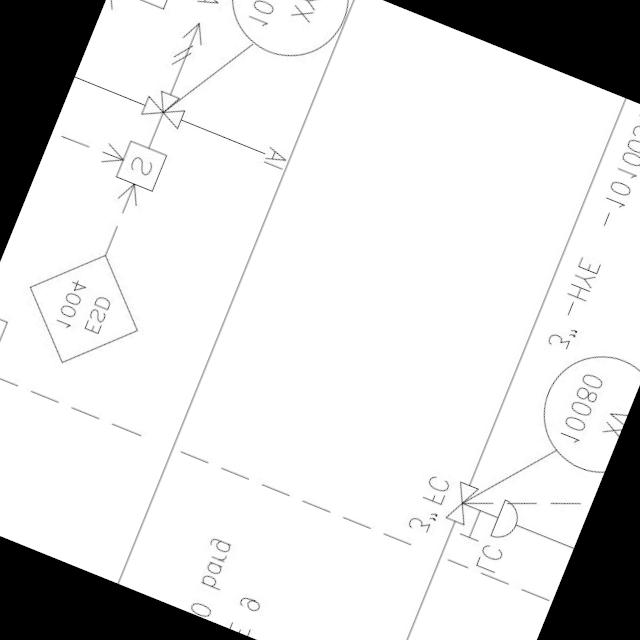3W: (132, 80, 192, 136)
FC: (442, 474, 530, 548)
SV: (108, 94, 190, 202)
